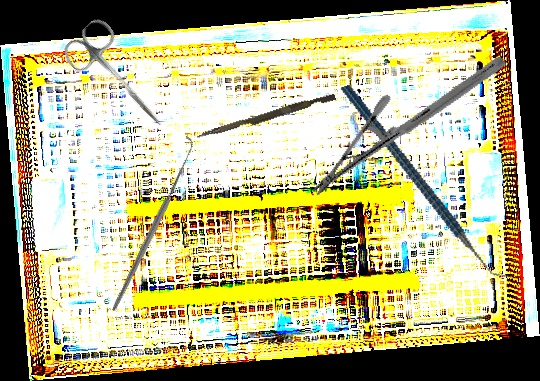Chopper: (340, 54, 515, 312)
Hook Surgical: (54, 134, 248, 314)
Iris Scissors: (58, 14, 183, 143)
Needle Holder: (309, 7, 509, 245)
Pusher: (195, 89, 337, 145)
